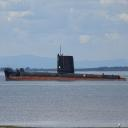submarine: (5, 44, 127, 81)
